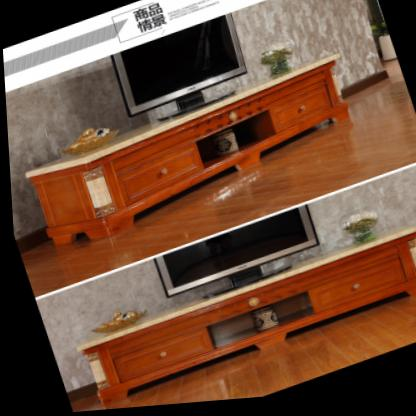TV stand: (24, 60, 348, 246), (71, 233, 416, 404)
